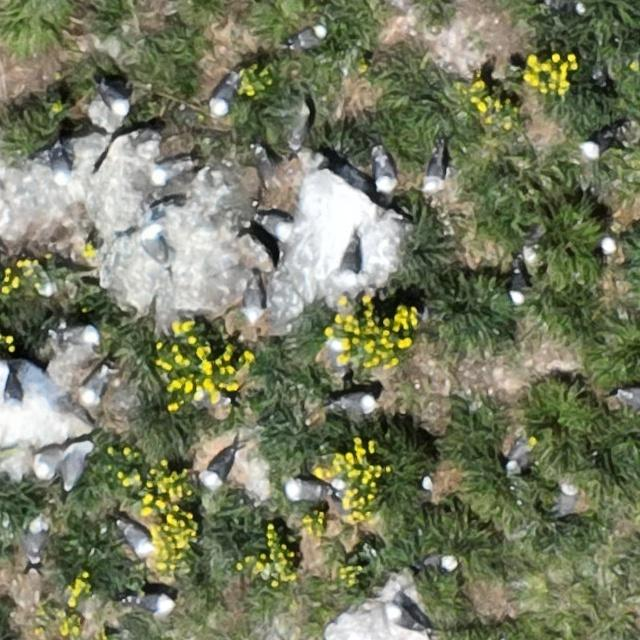umineko: (140, 224, 174, 272), (148, 158, 191, 187), (384, 606, 427, 635), (338, 238, 363, 286), (242, 278, 267, 323), (205, 453, 234, 488), (256, 215, 291, 243), (122, 524, 152, 556), (327, 339, 347, 385), (83, 369, 110, 403), (37, 448, 64, 481), (213, 76, 237, 113), (65, 449, 89, 486), (56, 326, 100, 346), (285, 480, 328, 500), (333, 394, 374, 414), (130, 592, 171, 612), (290, 25, 326, 47), (423, 551, 459, 572), (104, 84, 129, 114), (374, 153, 394, 190), (26, 522, 44, 563), (290, 112, 308, 152), (3, 372, 20, 413), (426, 151, 444, 189), (583, 135, 612, 158), (508, 440, 528, 470), (558, 486, 578, 516), (510, 266, 526, 302), (52, 154, 70, 183), (619, 390, 640, 410), (600, 236, 616, 256)
